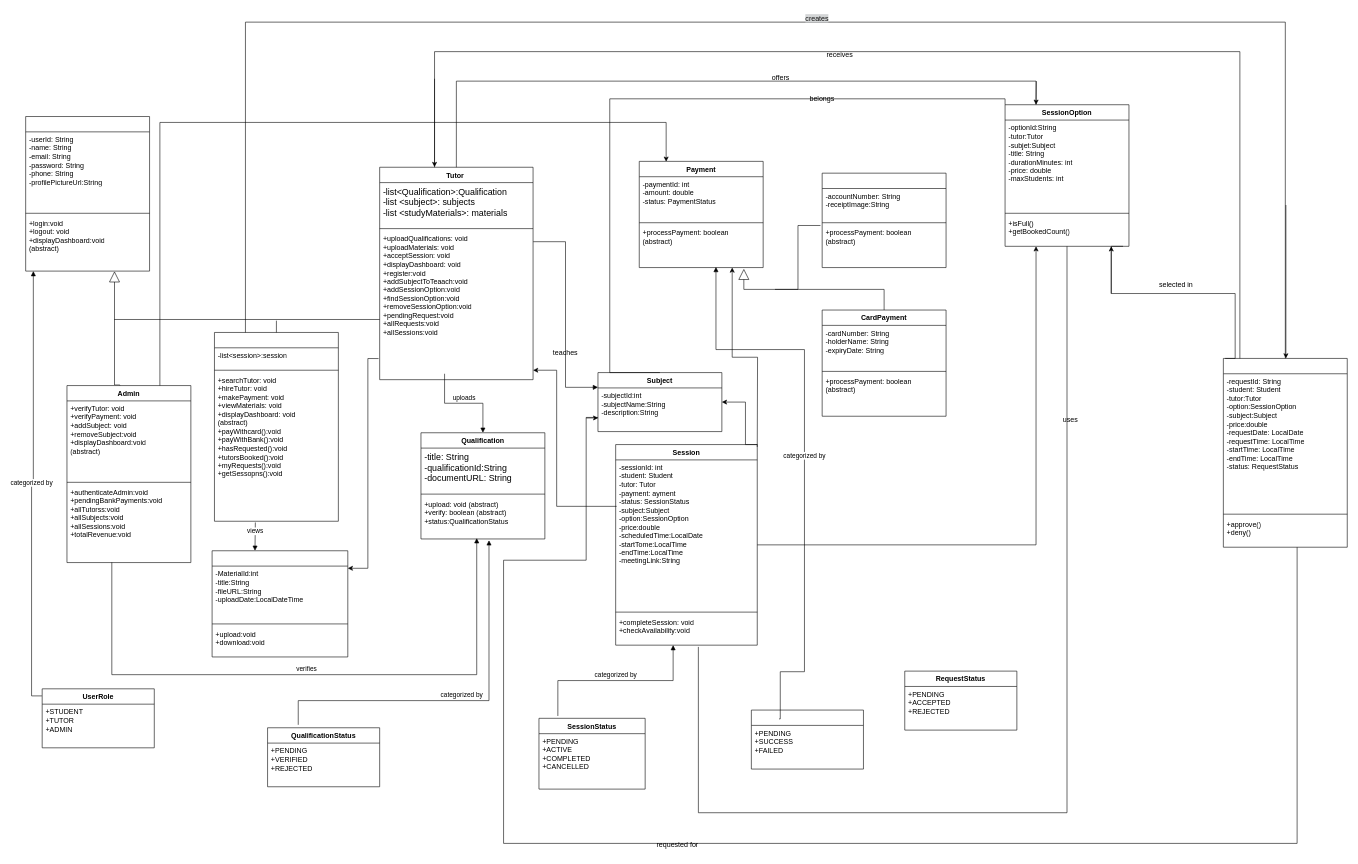
Image size: 1358x864. Some labels were removed from this diagram. Each missing label, with the box of its shape:
BankPayment: (822, 173, 946, 268)
PaymentStatus: (751, 709, 863, 769)
SessionRequest: (1223, 358, 1347, 547)
Student: (214, 332, 338, 521)
StudyMaterial: (212, 550, 348, 657)
User (abstract): (25, 116, 150, 271)
